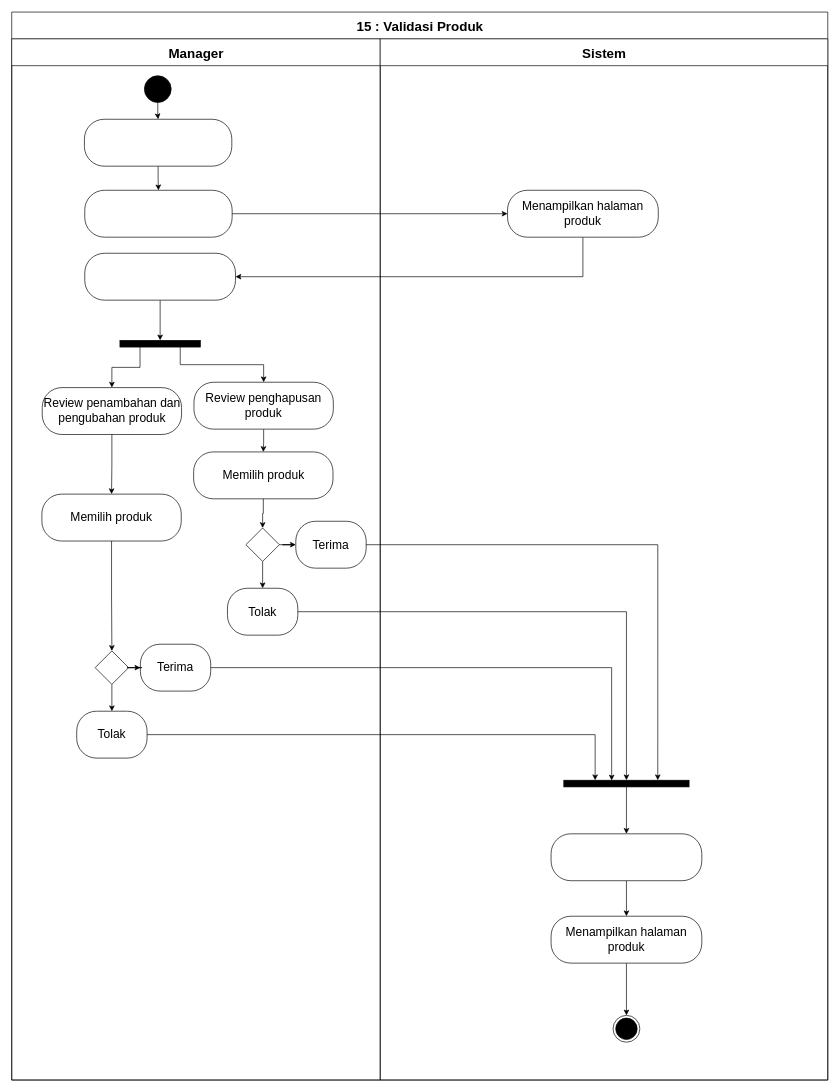
The diagram is 840 pixels wide and 1091 high, and some of its shapes have lost their labels. Each missing label, with the centre of its shape:
"Masuk ke halaman utama" belongs at [158,142].
"Memilih aksi" belongs at [160,276].
"Memilih menu produk" belongs at [158,213].
"Menyimpan data" belongs at [626,857].
